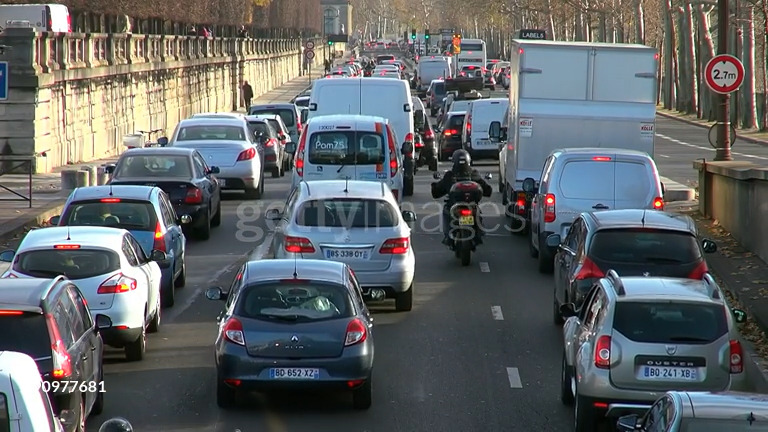car_number: (638, 366, 697, 380), (269, 368, 318, 379), (325, 249, 368, 259)
